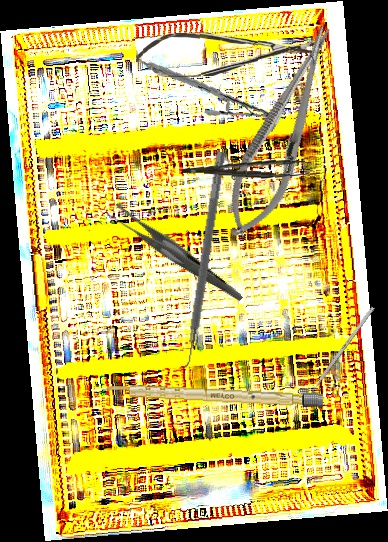Dressing Forceps: (105, 177, 244, 333)
Micro Scissor: (135, 30, 323, 78)
Needle Holder: (212, 17, 353, 248), (145, 46, 283, 137)
Pusher: (301, 306, 375, 406)
Scalpel Handle: (102, 382, 324, 408)
Spatula Surgical: (175, 150, 226, 374)
Tissue Forceps: (182, 153, 312, 182)
